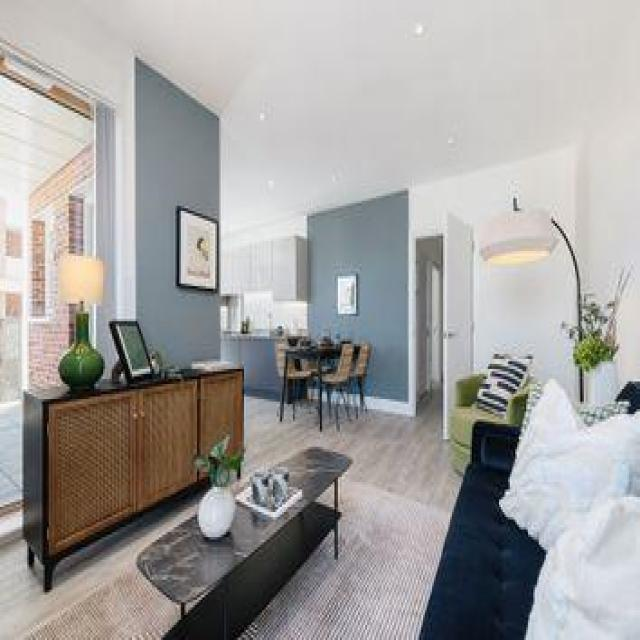Wall: (75, 1, 640, 235), (410, 109, 639, 400), (241, 396, 461, 638), (1, 0, 136, 317), (0, 489, 203, 639), (136, 59, 220, 364), (311, 193, 407, 400), (221, 215, 306, 249), (315, 316, 372, 339)
